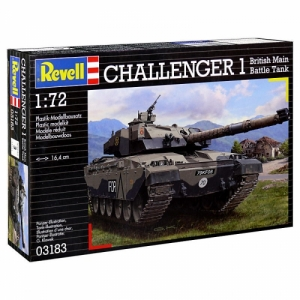Battle Tank: (85, 106, 291, 222)
